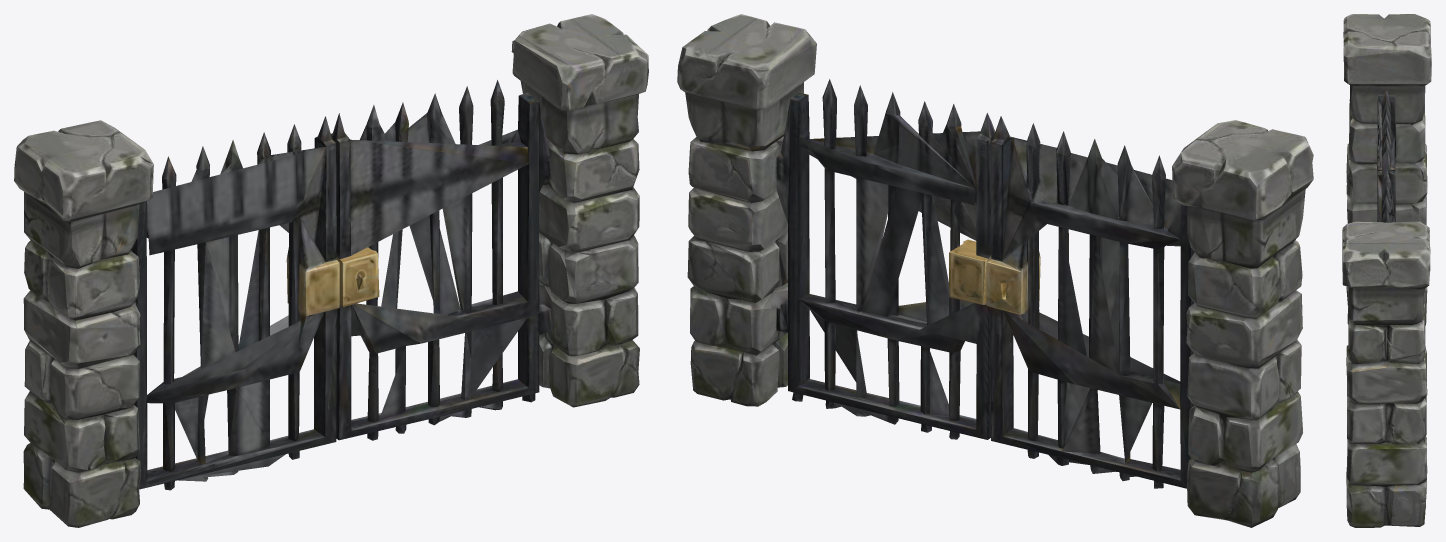
Rendered from double_gate_3d.glb.
The picture shows the model from 3 angles, left to right: view 1: azimuth 30°, elevation 25°; view 2: azimuth 150°, elevation 25°; view 3: azimuth 270°, elevation 25°; orthographic projection. The views are drawn at different scales.
Visible parts, largest first — view 1: Mesh_0; view 2: Mesh_0; view 3: Mesh_0.
Part boxes in pixels (x1,y1,x2,y2): Mesh_0: (14,14,648,527); Mesh_0: (677,14,1313,527); Mesh_0: (1342,14,1431,527).
Bounding box in the file's own units: 2.25 × 1.33 × 0.3686.
1 material, 1 textured.
